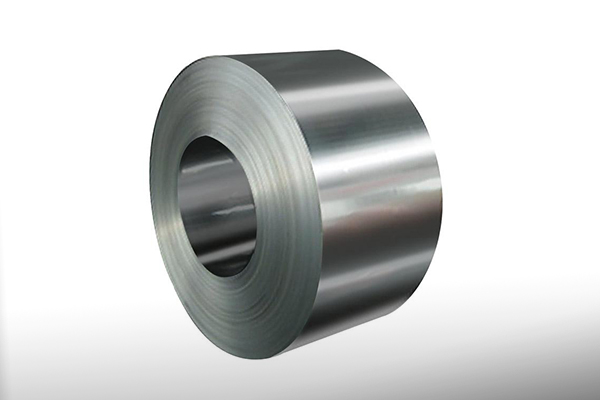steel-coil: (130, 39, 442, 334)
